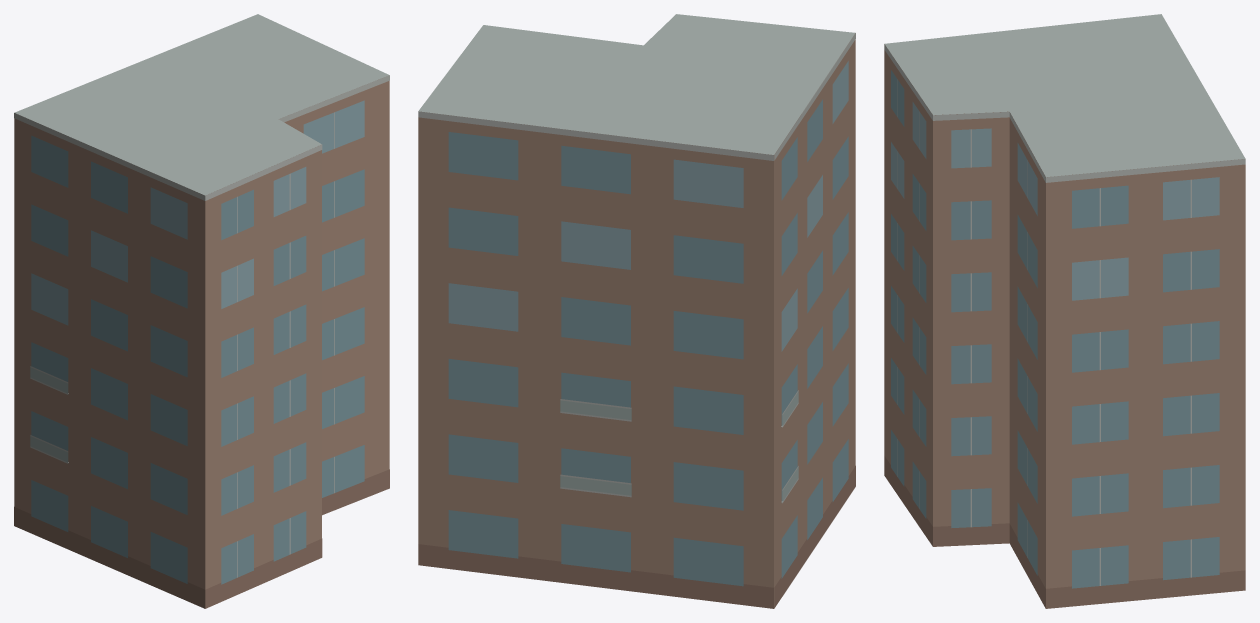
Rendered from survey-upis-32765434.glb.
3 renders of one model, left to right at view 1: azimuth 30°, elevation 25°; view 2: azimuth 150°, elevation 25°; view 3: azimuth 270°, elevation 25°, orthographic. The views are drawn at different scales.
Parts seen in each view (by area): view 1: survey-upis-32765434.tmp; view 2: survey-upis-32765434.tmp; view 3: survey-upis-32765434.tmp.
Boxes of the visible parts, x1,y1,x2,y2 form: survey-upis-32765434.tmp: (14, 14, 389, 608); survey-upis-32765434.tmp: (418, 14, 855, 608); survey-upis-32765434.tmp: (884, 14, 1245, 608).
Size of the model in its own units: 14.93 by 18.4 by 13.96.
